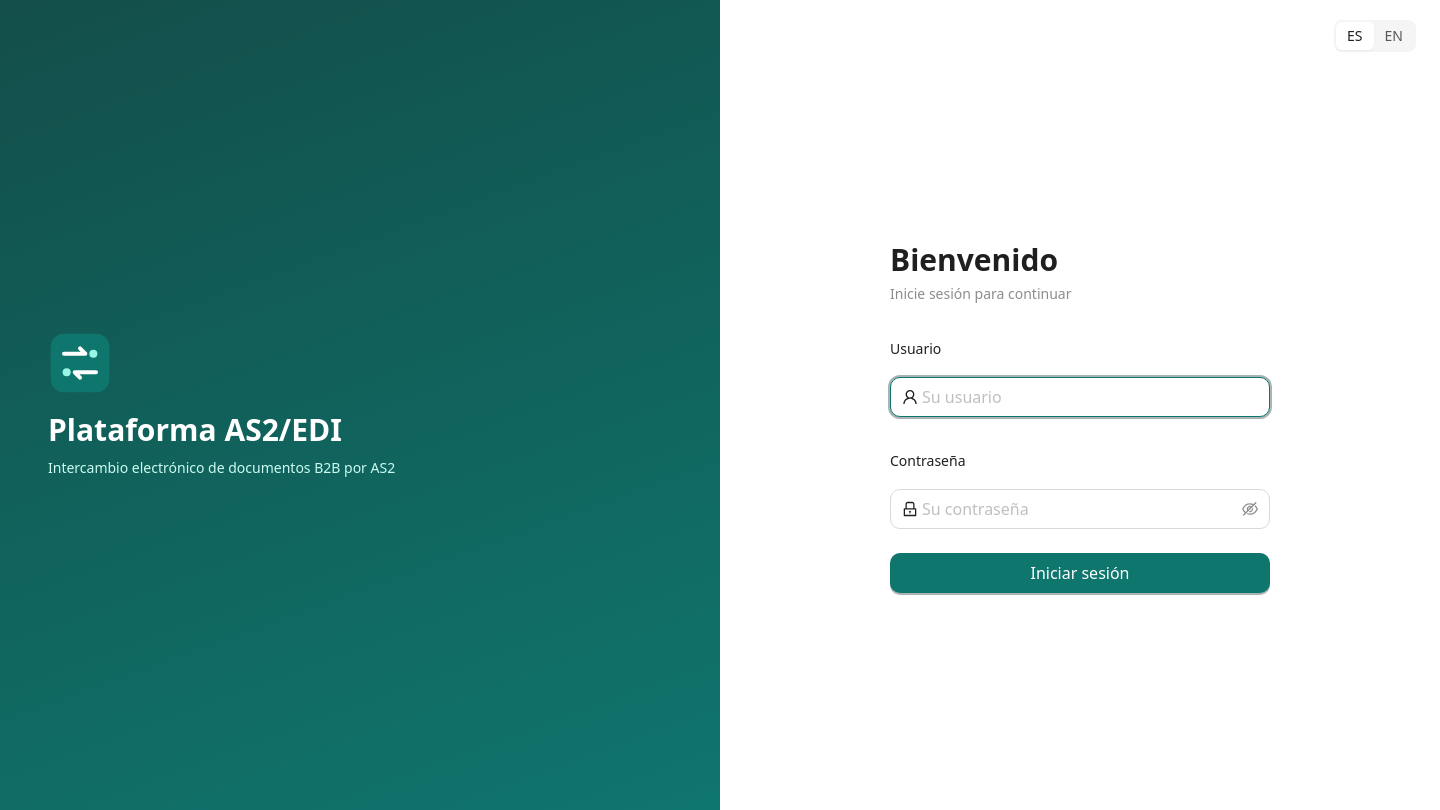
Test: idioma › al cambiar a English los textos cambian y el idioma se recuerda
Expected: the button "Iniciar sesión" is shown, [890,553,1270,593]
What coordinates should you click on to do the following:
click the text "EN"
I would click on:
 (1394, 36)
Its box is [1385,26,1403,45].
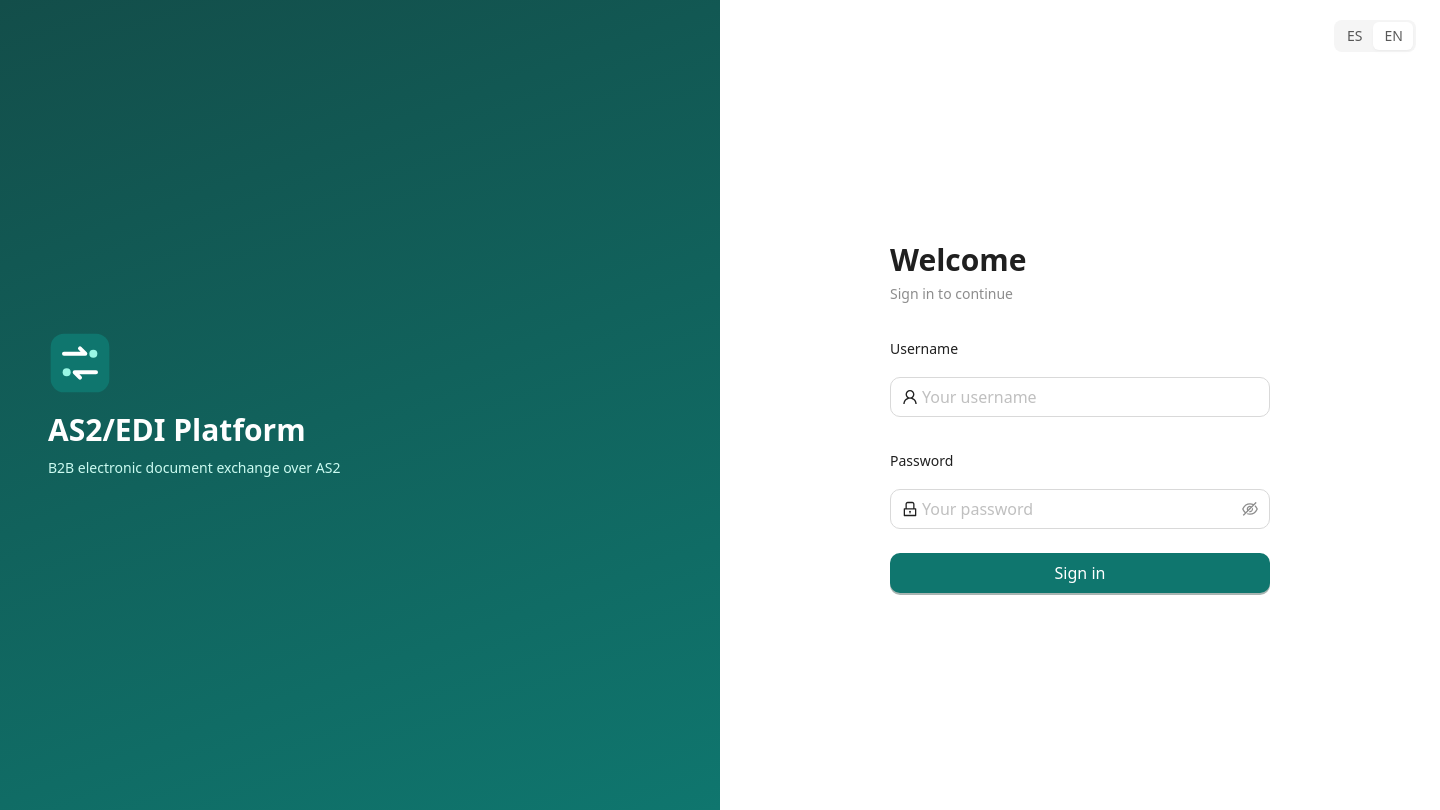
Expected: the text "Username" is shown, [890,329,972,369]
Expected: the button "Sign in" is shown, [890,553,1270,593]
Expected: the heading "Welcome" is shown, [890,239,1026,280]
